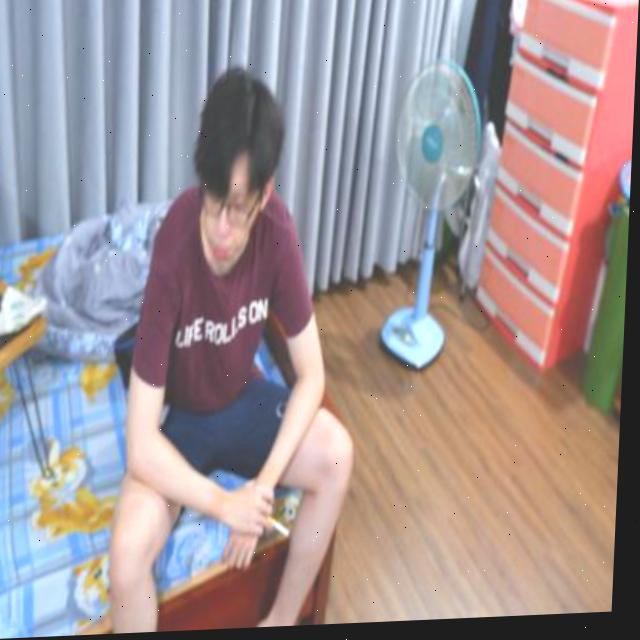cigarette: (272, 516, 297, 541)
